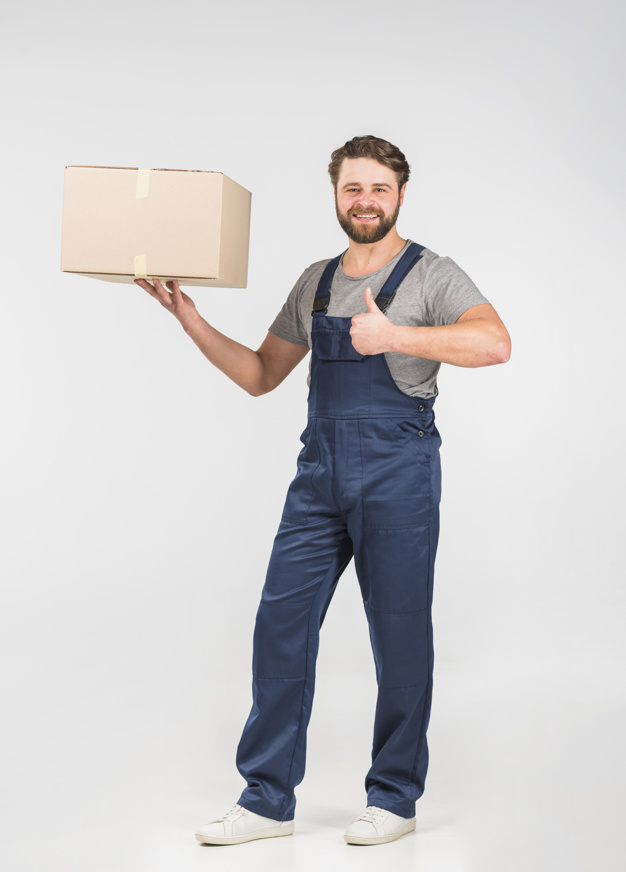thumbsup: (349, 287, 380, 355)
